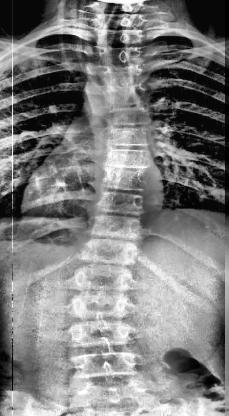Vertebrae: (72, 350, 148, 382), (68, 318, 142, 350), (74, 262, 136, 294), (69, 291, 137, 319), (86, 214, 140, 244), (78, 240, 140, 264), (102, 166, 150, 192), (103, 147, 153, 171), (105, 84, 153, 108), (95, 192, 147, 214), (104, 126, 156, 148), (100, 64, 148, 86), (98, 44, 144, 66), (98, 11, 146, 30), (104, 107, 151, 126), (98, 28, 142, 44)
